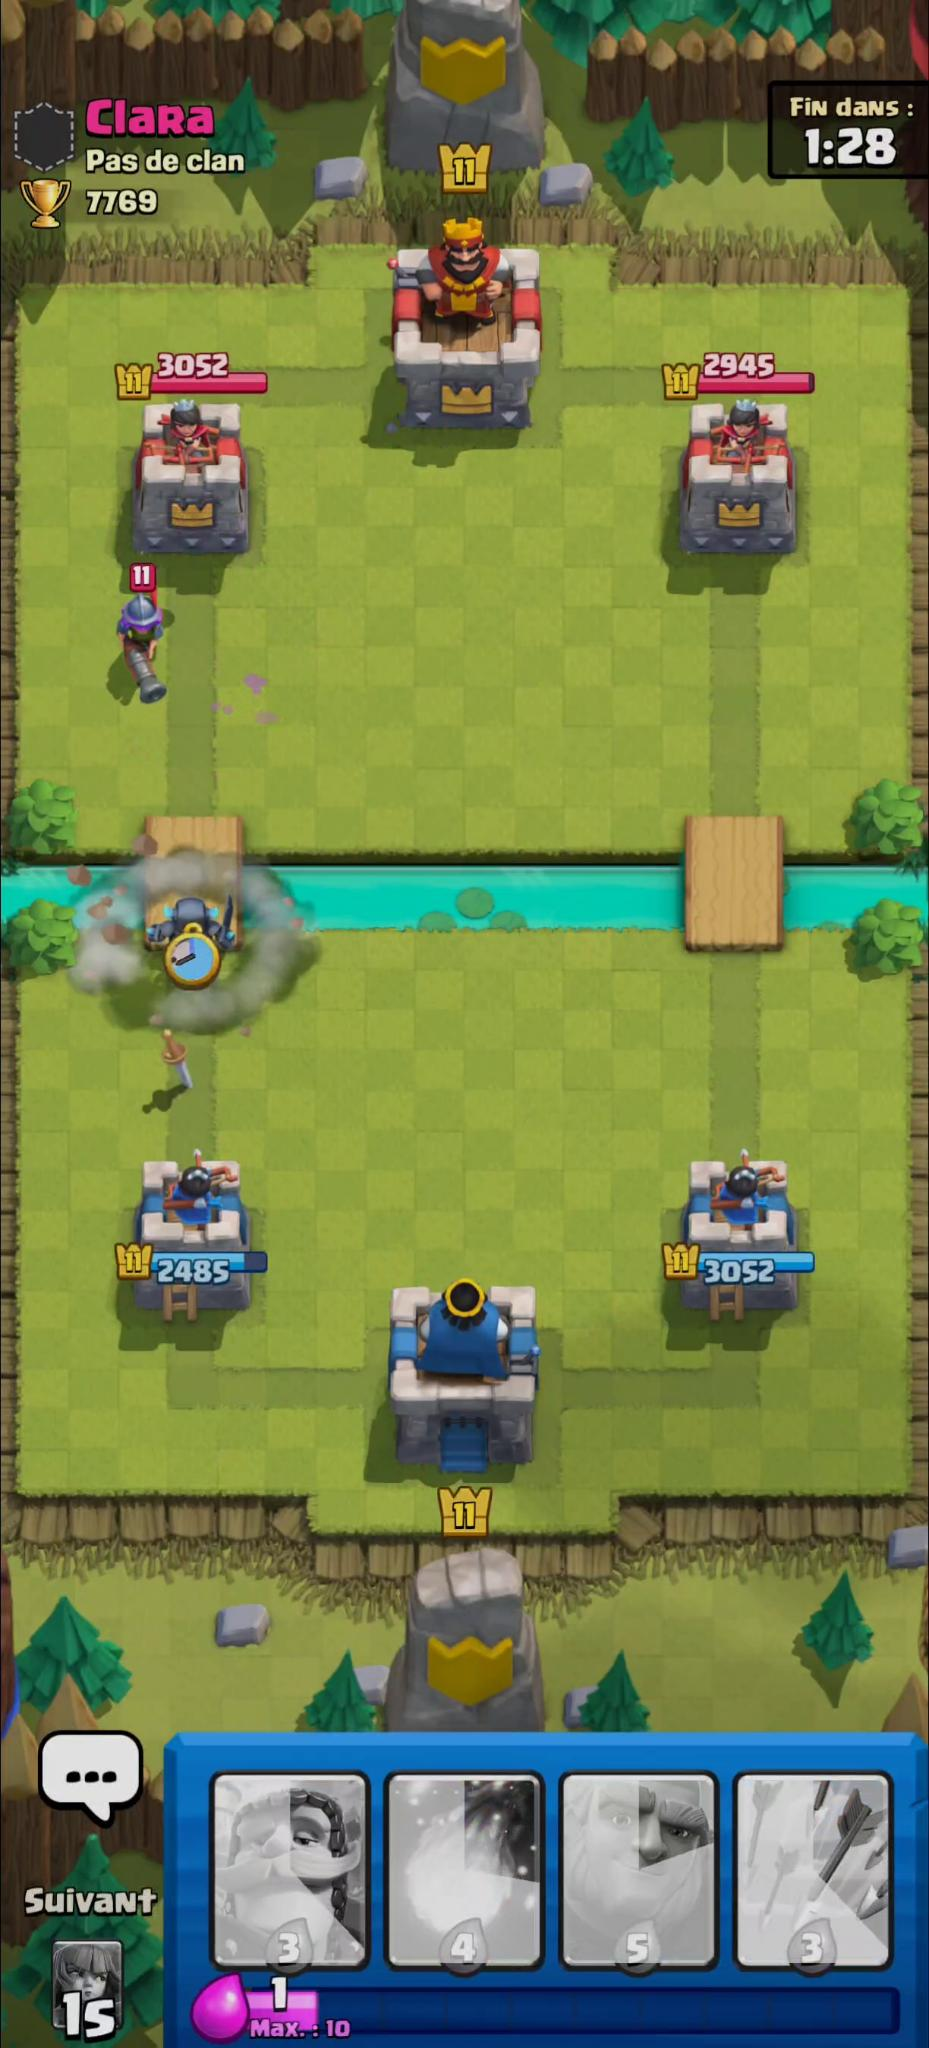mini_PEKKA: (144, 893, 243, 959)
mousquetaire: (116, 592, 172, 705)
